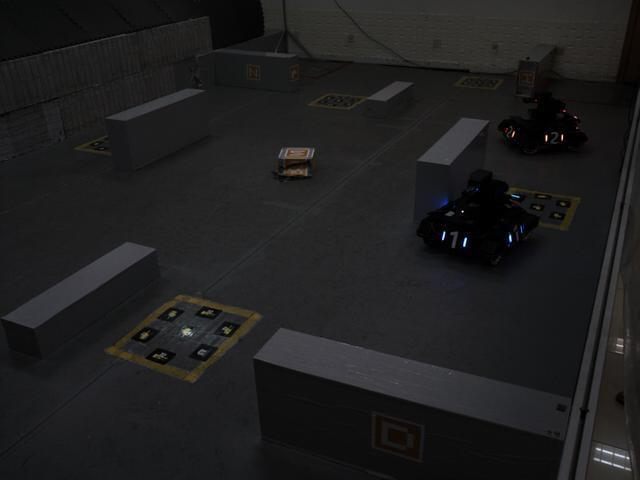armor: (438, 224, 472, 260), (502, 220, 526, 250), (538, 128, 568, 148), (499, 119, 518, 144)
